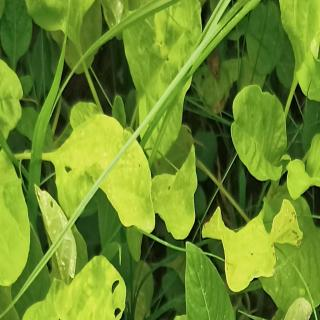karat_putih: (33, 179, 81, 286)
kekurangan_mangan: (210, 196, 306, 294)
virus_keriting: (116, 0, 206, 143), (0, 54, 24, 154)
